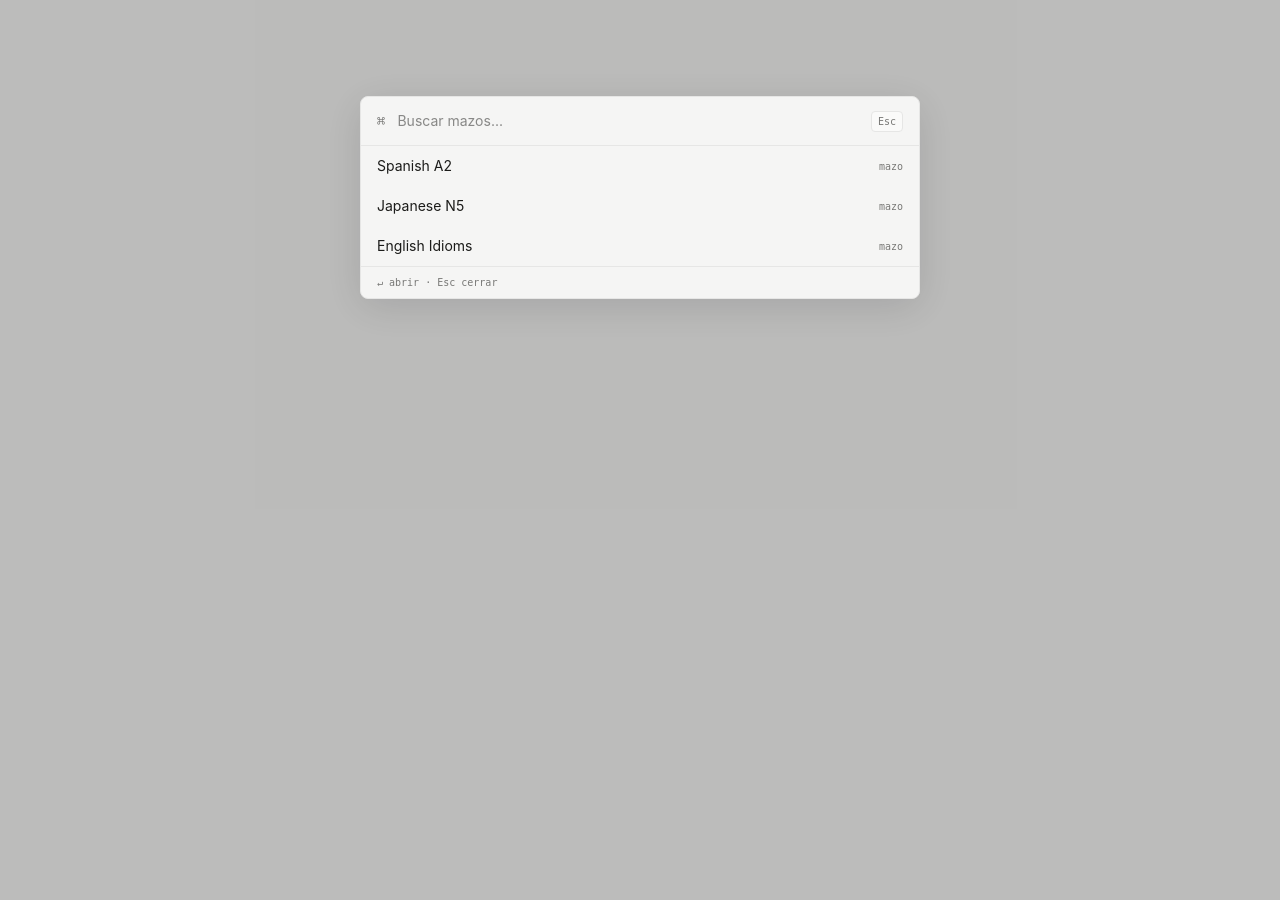
Test: CommandPalette — filtering (phase 7.5) › phase7_5-16: "JAPANESE" filters case-insensitively to Japanese N5
In the field with test id "command-palette-input": (628, 121) x1=397 y1=97 x2=859 y2=145, type "JAPANESE"
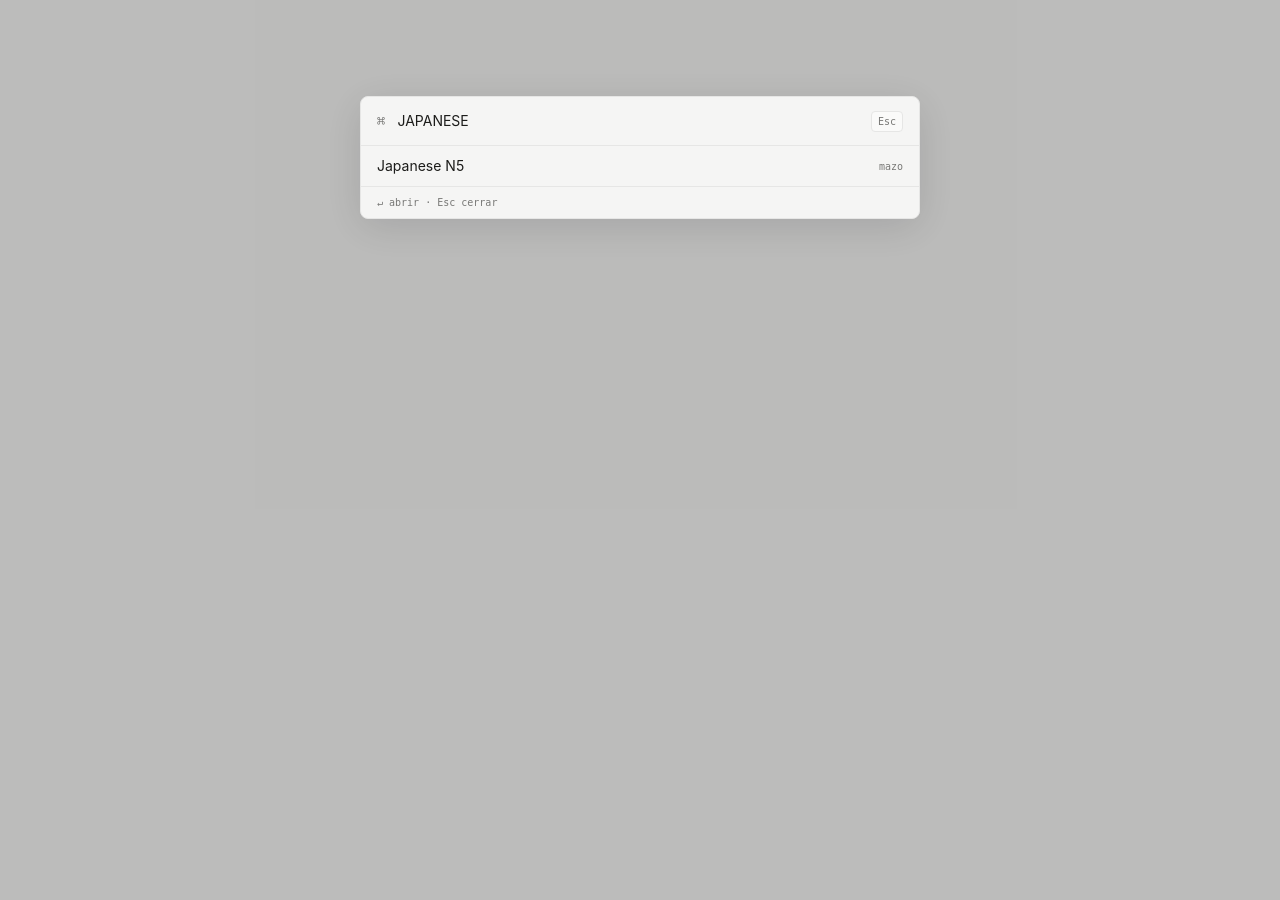
Expected: the list item with test id "palette-item" shows "Japanese N5", x1=377 y1=157 x2=464 y2=174
Expected: the number of list items with test id "palette-item" is 1, x1=377 y1=157 x2=903 y2=174
